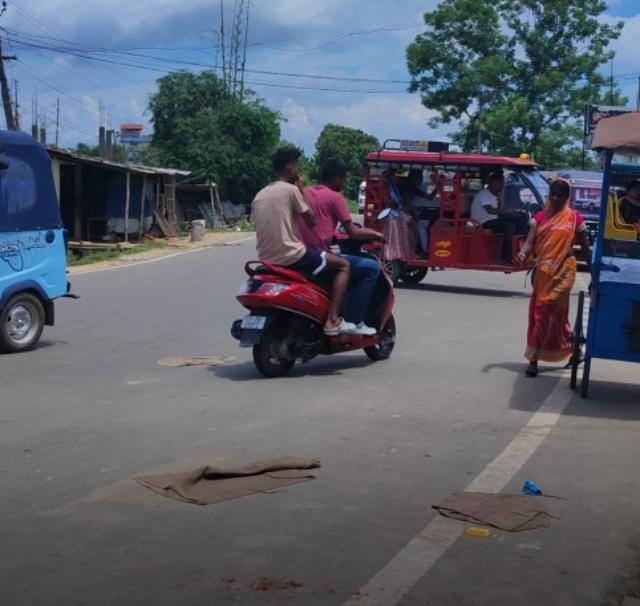licensePlate: (237, 312, 267, 332)
motorcycle: (231, 145, 395, 379)
withoutHelmet: (271, 148, 303, 185), (319, 158, 349, 190)
